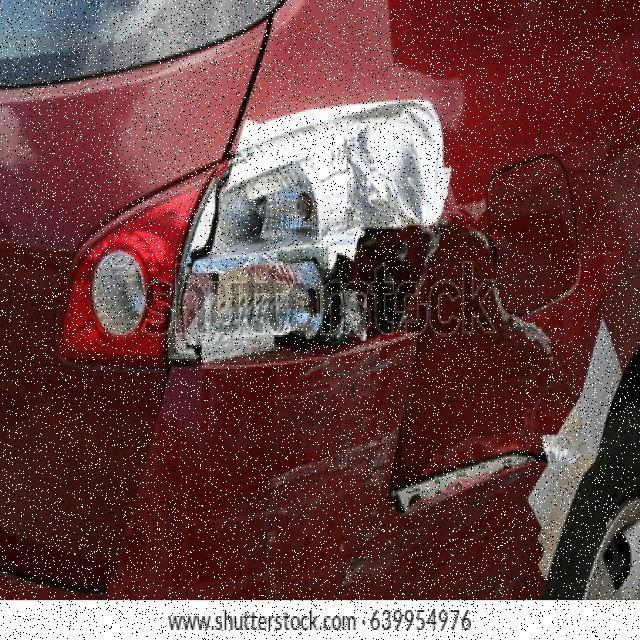Taillight-Damage: (67, 84, 461, 395)
quaterpanel-dent: (392, 0, 636, 600)
